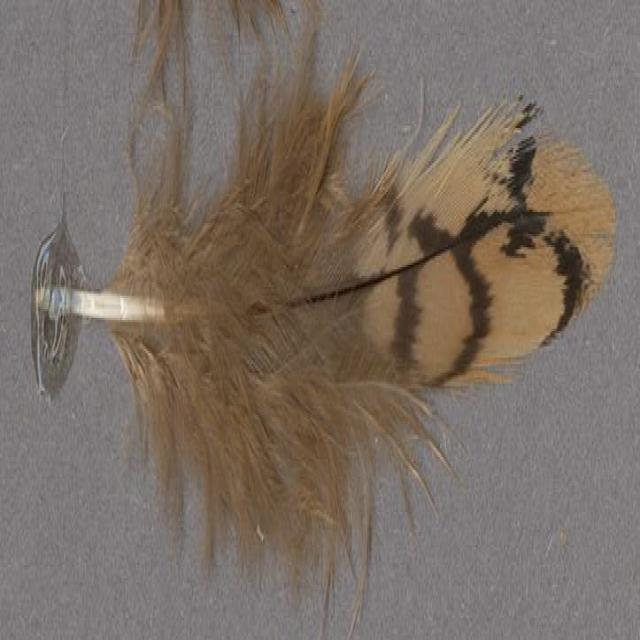feather: (46, 1, 616, 640)
